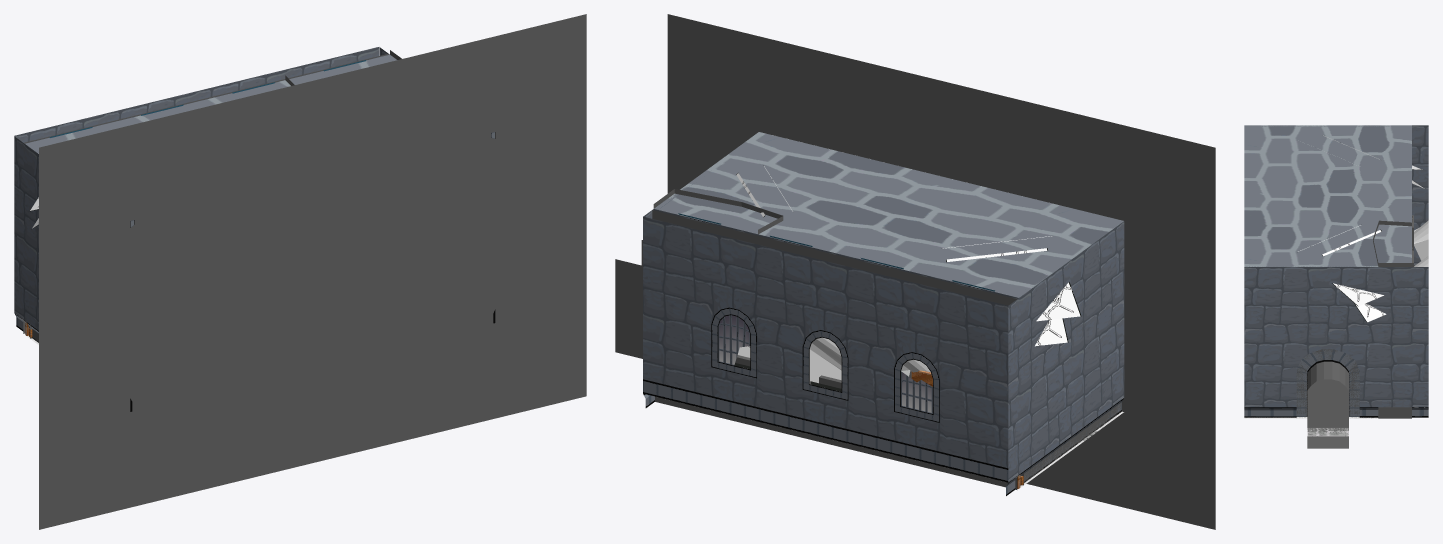
Rendered from gon_12_bake_split.dae.
3 views of the same model, side by side, from view 1: azimuth 30°, elevation 25°; view 2: azimuth 150°, elevation 25°; view 3: azimuth 270°, elevation 25° (orthographic). The views are drawn at different scales.
Parts seen in each view (by area): view 1: kuro4, polySurface810_q00029, polySurface84_q00133_part0, polySurface919_part0, polySurface7_q00138; view 2: kuro4, polySurface919_part0, polySurface7_q00138, polySurface84_q00133_part0, a_kabeushi, polySurface919_part1, polySurface919_part3, polySurface805_q00031, polySurface810_q00029, polySurface890_q00128, polySurface919_part2_VC, polySurface919_part2 (+4 smaller); view 3: polySurface7_q00138, polySurface84_q00134_part0, polySurface84_q00134_part1, polySurface787_q00107, polySurface84_q00133_part0, polySurface84_q00025, polySurface408_q00106_part0, polySurface402_q00030, pCube166_q00033, polySurface890_q00128, pCylinder1_q00045_VC, pCylinder1_q00046_VC (+1 smaller).
Boxes of the visible parts, x1,y1,x2,y2 form: kuro4: (39, 14, 586, 529); polySurface810_q00029: (130, 133, 495, 411); polySurface84_q00133_part0: (14, 136, 38, 330); polySurface919_part0: (14, 47, 379, 142); polySurface7_q00138: (25, 54, 396, 153); kuro4: (667, 14, 1215, 529); polySurface919_part0: (643, 216, 1008, 468); polySurface7_q00138: (654, 132, 1123, 297); polySurface84_q00133_part0: (1008, 221, 1124, 482); a_kabeushi: (652, 210, 1019, 489); polySurface919_part1: (643, 379, 1008, 482); polySurface919_part3: (711, 307, 939, 422); polySurface805_q00031: (615, 240, 642, 358); polySurface810_q00029: (1122, 221, 1133, 413); polySurface890_q00128: (737, 337, 930, 384); polySurface919_part2_VC: (719, 315, 931, 412); polySurface919_part2: (718, 315, 932, 413); polySurface7_q00138: (1244, 125, 1411, 266); polySurface84_q00134_part0: (1244, 267, 1428, 407); polySurface84_q00134_part1: (1244, 349, 1428, 417); polySurface787_q00107: (1307, 379, 1348, 427); polySurface84_q00133_part0: (1412, 125, 1428, 265); polySurface84_q00025: (1296, 349, 1359, 416); polySurface408_q00106_part0: (1307, 361, 1348, 390); polySurface402_q00030: (1307, 427, 1348, 448); pCube166_q00033: (1373, 240, 1411, 418); polySurface890_q00128: (1414, 220, 1428, 266); pCylinder1_q00045_VC: (1298, 225, 1383, 306); pCylinder1_q00046_VC: (1322, 230, 1386, 322).
Size of the model in its own units: 60 by 40 by 22.
